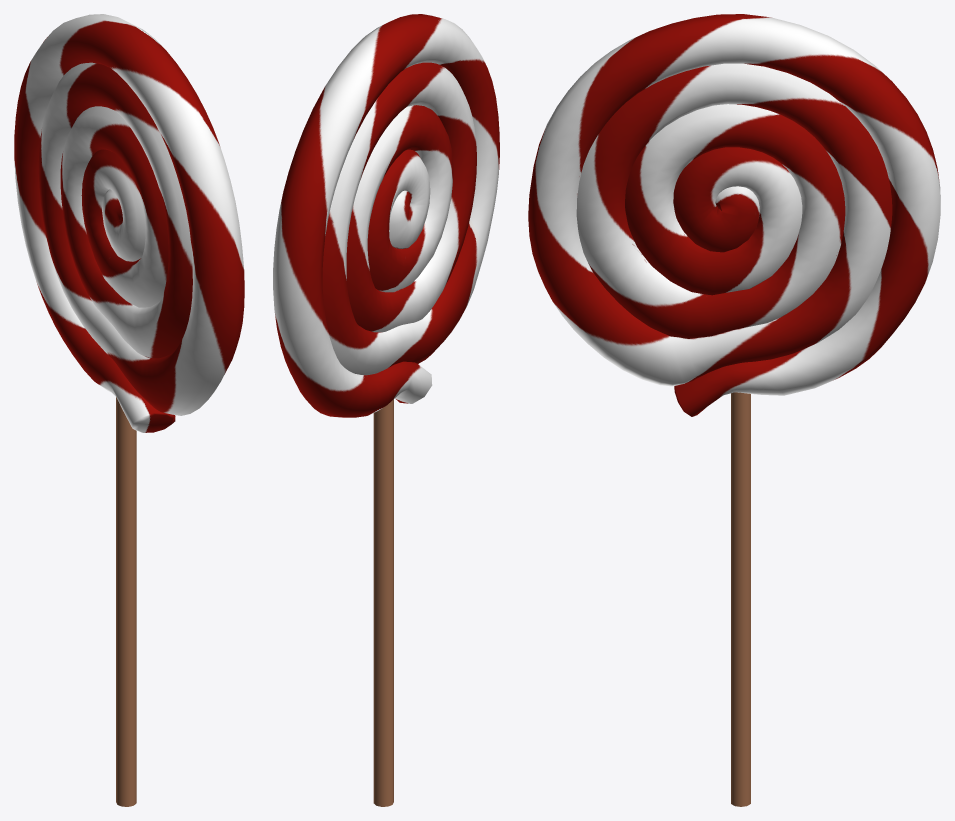
Rendered from lollipop.fbx.
3 renders of one model, left to right at view 1: azimuth 30°, elevation 25°; view 2: azimuth 150°, elevation 25°; view 3: azimuth 270°, elevation 25°, orthographic.
Parts seen in each view (by area): view 1: node_id57; view 2: node_id57; view 3: node_id57.
Boxes of the visible parts, bbox=[...] form: node_id57: bbox=[14, 14, 244, 806]; node_id57: bbox=[273, 14, 499, 806]; node_id57: bbox=[528, 14, 940, 806].
Bounding box in the file's own units: 1.76 × 29.18 × 13.88.
